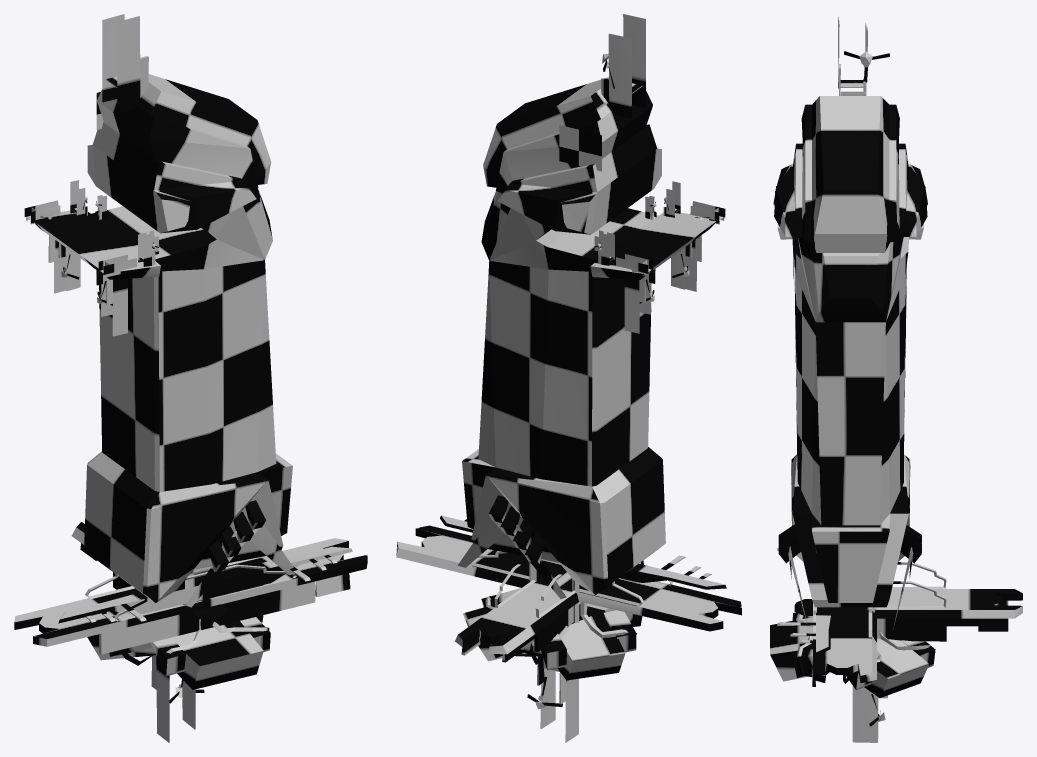
Rendered from building-hq-eic.obj.
3 renders of one model, left to right at view 1: azimuth 30°, elevation 25°; view 2: azimuth 150°, elevation 25°; view 3: azimuth 270°, elevation 25°, orthographic. The views are drawn at different scales.
Parts seen in each view (by area): view 1: building-hq-eic; view 2: building-hq-eic; view 3: building-hq-eic.
Boxes of the visible parts, <box> form: building-hq-eic: <box>14,14,367,742</box>; building-hq-eic: <box>396,14,741,742</box>; building-hq-eic: <box>770,16,1022,742</box>.
Bounding box in the file's own units: 438 × 927 × 305.
Materials: 1 (1 with a texture image).
